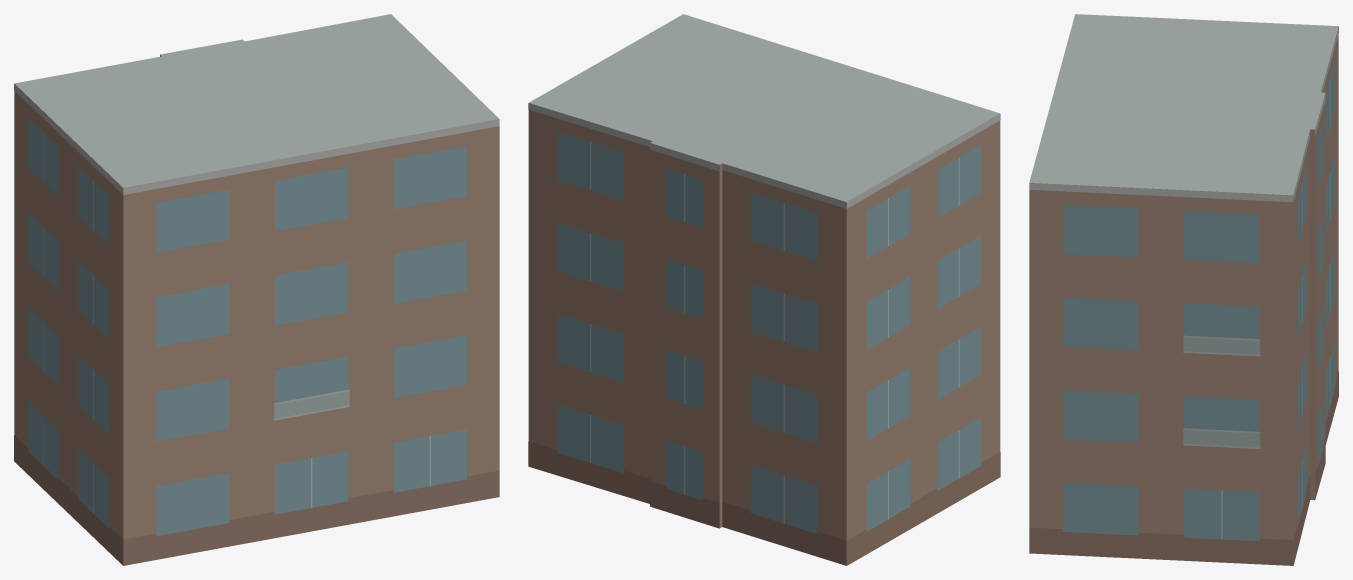
File: survey-upis-32881169.glb
The picture shows the model from 3 angles, left to right: view 1: azimuth 30°, elevation 25°; view 2: azimuth 150°, elevation 25°; view 3: azimuth 270°, elevation 25°; orthographic projection. The views are drawn at different scales.
Parts seen in each view (by area): view 1: survey-upis-32881169.tmp; view 2: survey-upis-32881169.tmp; view 3: survey-upis-32881169.tmp.
Part boxes in pixels (box(x1,y1,x2,y2)): survey-upis-32881169.tmp: box(14, 14, 499, 565); survey-upis-32881169.tmp: box(528, 14, 1000, 565); survey-upis-32881169.tmp: box(1029, 14, 1338, 565).
Size of the model in its own units: 13.76 by 13.1 by 9.93.
